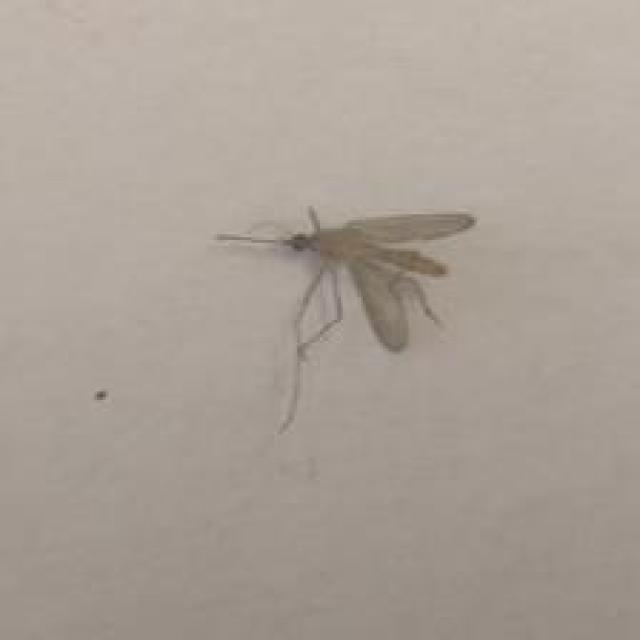Culex: (213, 203, 476, 434)
